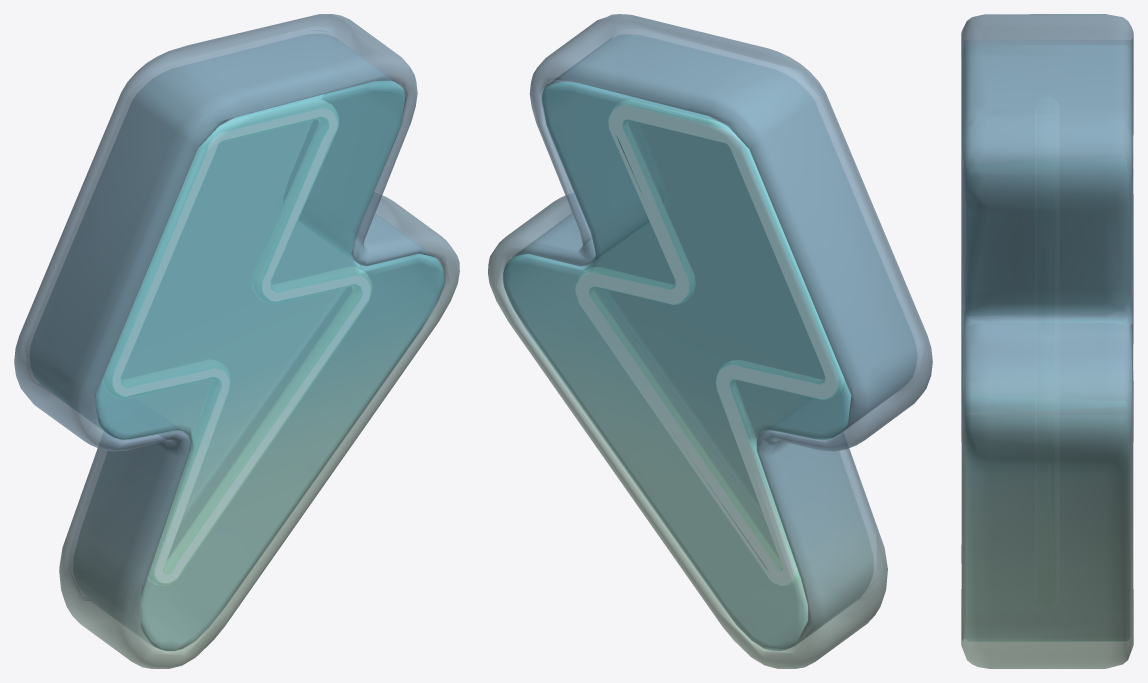
Rendered from XP_Blue_V2-Optimized.glb.
3 renders of one model, left to right at view 1: azimuth 30°, elevation 25°; view 2: azimuth 150°, elevation 25°; view 3: azimuth 270°, elevation 25°, orthographic. The views are drawn at different scales.
Visible parts, largest first — view 1: мат_с_г003, мат_с_г001, мат_с_г002; view 2: мат_с_г003, мат_с_г001, мат_с_г002; view 3: мат_с_г001, мат_с_г003.
Part boxes in pixels (x1=…): мат_с_г003: x1=30, y1=34, x2=444, y2=650; мат_с_г001: x1=14, y1=14, x2=459, y2=668; мат_с_г002: x1=102, y1=99, x2=371, y2=585; мат_с_г003: x1=503, y1=35, x2=916, y2=650; мат_с_г001: x1=488, y1=14, x2=932, y2=668; мат_с_г002: x1=575, y1=100, x2=844, y2=585; мат_с_г001: x1=961, y1=14, x2=1133, y2=668; мат_с_г003: x1=964, y1=45, x2=1130, y2=641.
Size of the model in its own units: 2511 by 3498 by 805.
3 materials, 3 textured.
